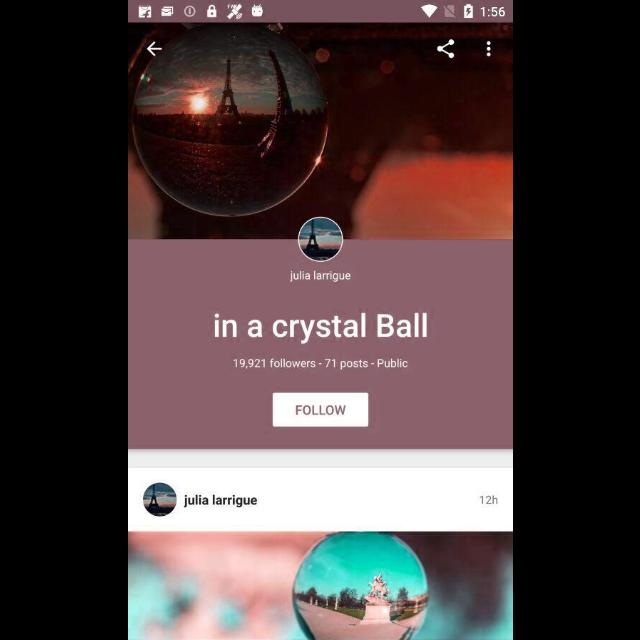icon: (436, 40, 454, 59), (146, 42, 162, 58), (486, 42, 490, 58)
image: (128, 24, 512, 240), (128, 532, 512, 640), (297, 216, 343, 264), (142, 482, 176, 518)
text: (213, 312, 427, 346), (233, 358, 407, 370), (183, 494, 257, 508), (289, 270, 351, 282), (479, 493, 497, 507)
textbutton: (272, 393, 368, 427)
uppertaskbar: (128, 1, 512, 23)
